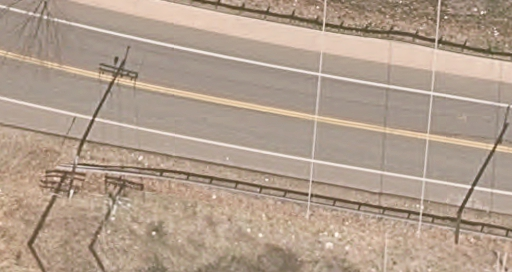DT: (18, 192, 73, 252), (50, 139, 109, 190), (84, 192, 126, 247)
